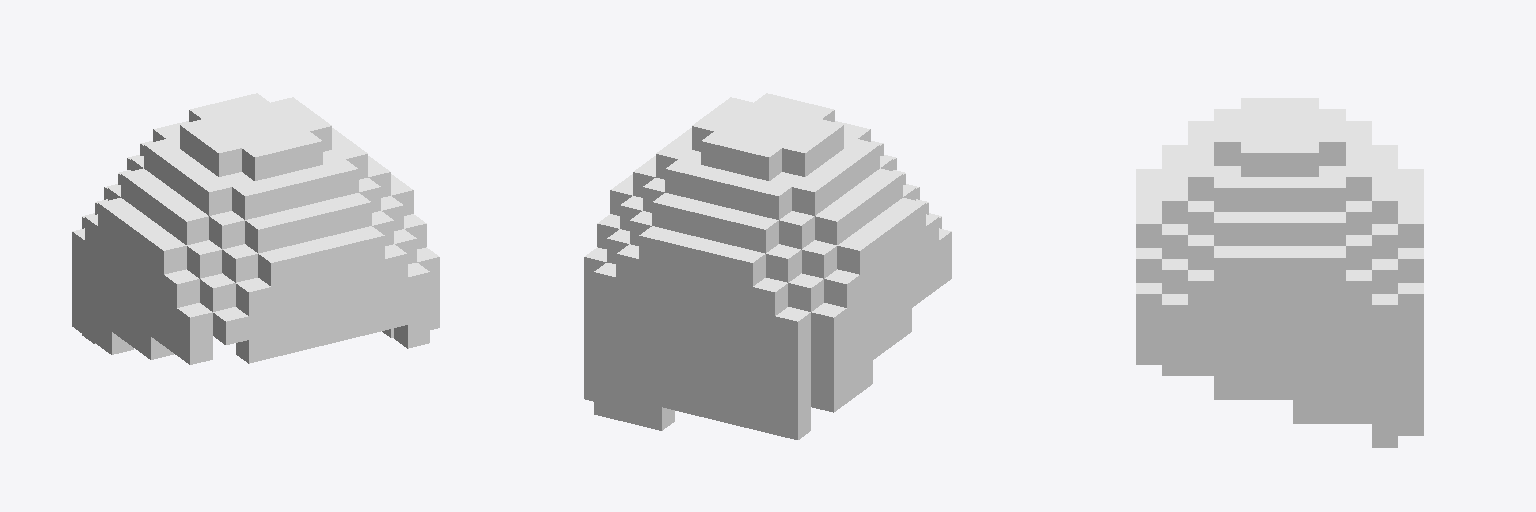
The model's file is egg_heart_tophalf.obj.
The picture shows the model from 3 angles: view 1: azimuth 30°, elevation 25°; view 2: azimuth 150°, elevation 25°; view 3: azimuth 270°, elevation 25°; orthographic projection.
Parts seen in each view (by area): view 1: egg_heart_tophalf.001; view 2: egg_heart_tophalf.001; view 3: egg_heart_tophalf.001.
Part boxes in pixels (x1,y1,x2,y2): egg_heart_tophalf.001: (72, 93, 439, 364); egg_heart_tophalf.001: (584, 93, 951, 439); egg_heart_tophalf.001: (1136, 98, 1423, 447).
Bounding box in the file's own units: 1.1 × 1.1 × 1.1.